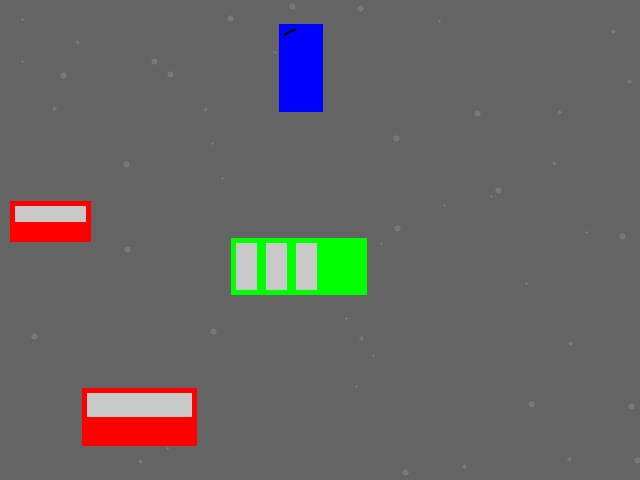bus: (231, 238, 366, 294)
car: (82, 388, 196, 445), (10, 201, 90, 241)
motorcycle: (279, 24, 322, 111)
